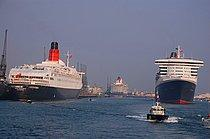Ship: (6, 49, 86, 101), (151, 48, 205, 103), (148, 102, 172, 123)
